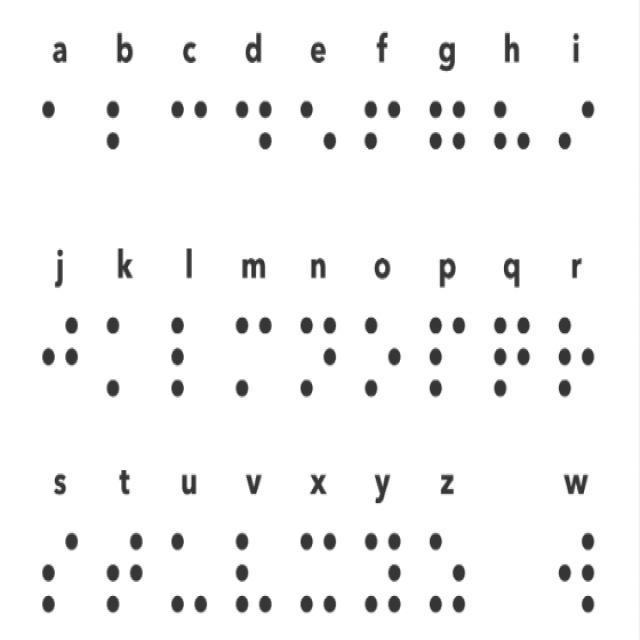braiile: (554, 514, 610, 628), (551, 304, 607, 416), (419, 86, 476, 196), (416, 302, 474, 409), (224, 517, 280, 626), (226, 302, 283, 409), (550, 82, 604, 194), (98, 300, 154, 408), (484, 302, 541, 407), (34, 304, 89, 411), (99, 89, 155, 194), (161, 89, 217, 194), (163, 304, 220, 407), (484, 86, 538, 194), (226, 88, 282, 192), (96, 514, 148, 626), (162, 517, 216, 624), (36, 89, 92, 192), (33, 518, 85, 628), (357, 86, 409, 194), (422, 520, 475, 624), (356, 524, 410, 626), (294, 302, 346, 407), (357, 302, 408, 406), (294, 522, 346, 624), (292, 89, 343, 191)
